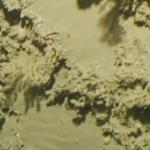dead: (3, 5, 147, 143)
